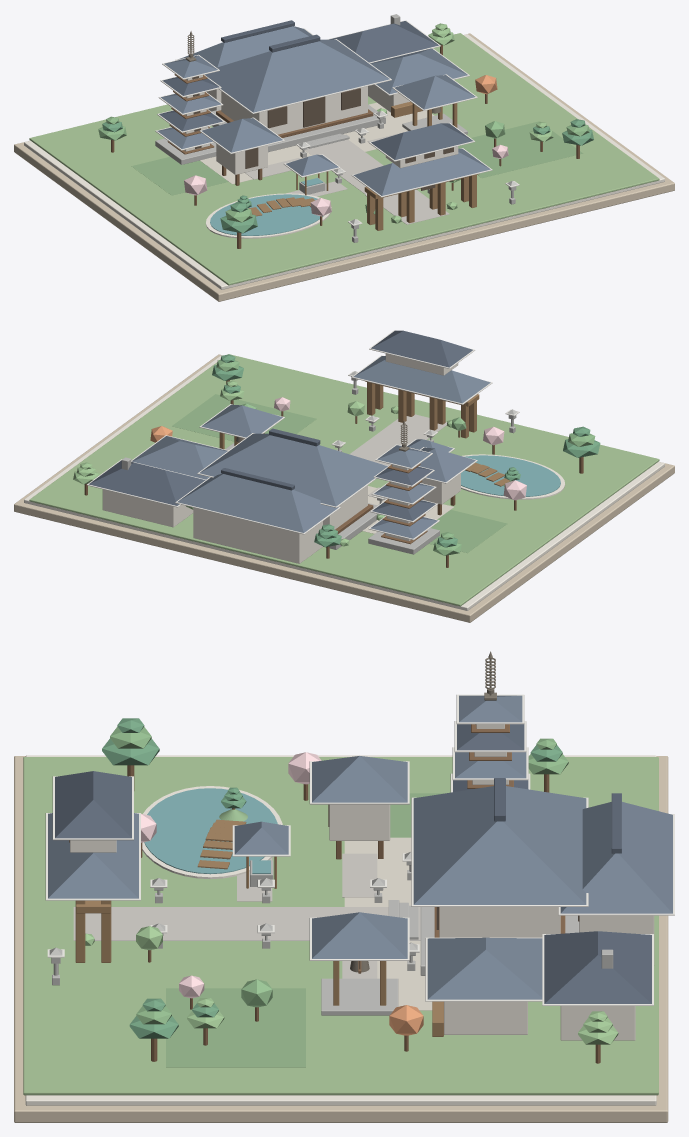
Rendered from keidai-v4.glb.
The picture shows the model from 3 angles, top to bottom: view 1: azimuth 30°, elevation 25°; view 2: azimuth 150°, elevation 25°; view 3: azimuth 270°, elevation 25°; orthographic projection. The views are drawn at different scales.
Visible parts, largest first — view 1: GroundTop, PlinthBase, HondoRoof, PlinthMid, LawnPatchE, SanmonRoofLow, Sando, KuriRoof, PondWater, ShoinRoof, HondoBody, Court (+21 smaller); view 2: GroundTop, PlinthBase, HondoRoof, HodoRoof, PlinthMid, HodoBody, SanmonRoofLow, KuriRoof, PondWater, ShoinRoof, SanmonRoofUp, LawnPatchE (+19 smaller); view 3: GroundTop, HondoRoof, PlinthBase, LawnPatchE, HodoRoof, PlinthMid, KuriRoof, Sando, ShoinRoof, PondWater, SanmonRoofLow, SanmonRoofUp (+24 smaller).
Boxes of the visible parts, x1,y1,x2,y2 form: GroundTop: (29, 33, 659, 285); PlinthBase: (14, 33, 674, 301); HondoRoof: (205, 39, 389, 112); PlinthMid: (24, 34, 664, 289); LawnPatchE: (458, 121, 582, 177); SanmonRoofLow: (353, 148, 490, 195); Sando: (305, 139, 449, 224); KuriRoof: (329, 21, 438, 62); PondWater: (210, 194, 323, 235); ShoinRoof: (370, 48, 467, 94); HondoBody: (221, 86, 367, 134); Court: (200, 102, 434, 184); GroundTop: (29, 354, 659, 606); PlinthBase: (14, 354, 674, 622); HondoRoof: (199, 433, 387, 506); HodoRoof: (177, 473, 338, 532); PlinthMid: (24, 355, 664, 610); HodoBody: (193, 507, 322, 563); SanmonRoofLow: (353, 356, 490, 403); KuriRoof: (89, 460, 205, 505); PondWater: (461, 455, 560, 496); ShoinRoof: (132, 436, 227, 479); SanmonRoofUp: (371, 330, 472, 367); LawnPatchE: (172, 394, 316, 441); GroundTop: (23, 757, 658, 1095); HondoRoof: (413, 786, 586, 904); PlinthBase: (14, 756, 668, 1122); LawnPatchE: (166, 988, 305, 1067); HodoRoof: (560, 802, 672, 913); PlinthMid: (25, 755, 656, 1105); KuriRoof: (544, 931, 651, 1003); Sando: (73, 907, 420, 940); ShoinRoof: (427, 937, 542, 999); PondWater: (144, 788, 277, 874); SanmonRoofLow: (48, 813, 138, 898); SanmonRoofUp: (55, 771, 131, 838).
Size of the model in its own units: 36 by 10 by 28.29.
